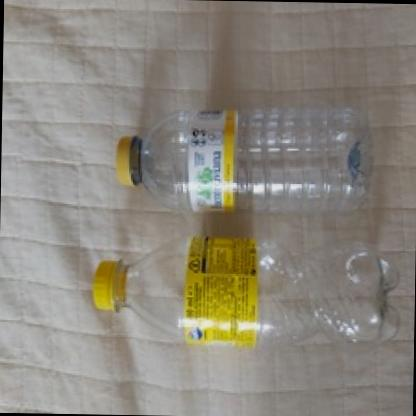plastic_bottles: (86, 228, 400, 360), (107, 100, 378, 223)
